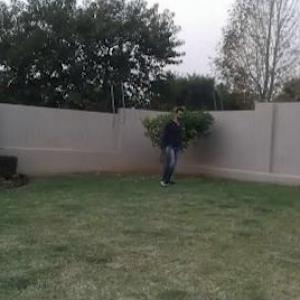follow: (157, 98, 184, 192)
